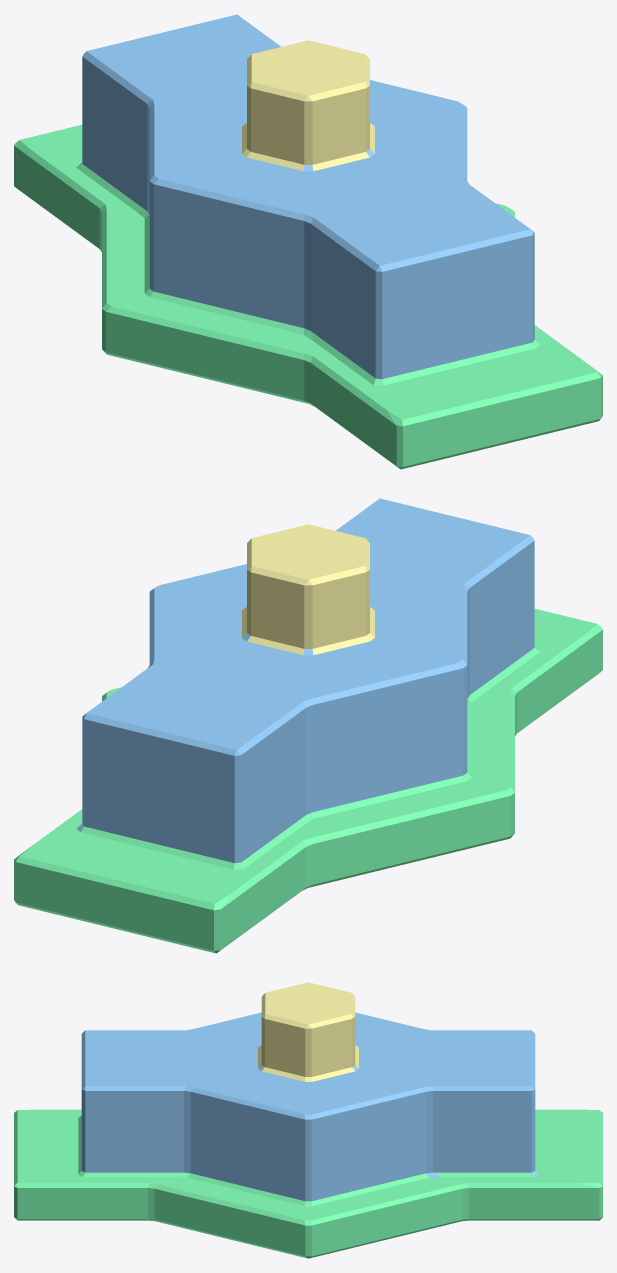
The model's file is Extra 1.fbx.
3 renders of one model, top to bottom at view 1: azimuth 30°, elevation 25°; view 2: azimuth 150°, elevation 25°; view 3: azimuth 270°, elevation 25°, orthographic. The views are drawn at different scales.
Parts seen in each view (by area): view 1: Extra 1; view 2: Extra 1; view 3: Extra 1.
Part boxes in pixels (<box>): Extra 1: <box>14,14,602,469</box>; Extra 1: <box>14,498,602,953</box>; Extra 1: <box>14,982,602,1258</box>.
Bounding box in the file's own units: 198 × 110 × 325.
